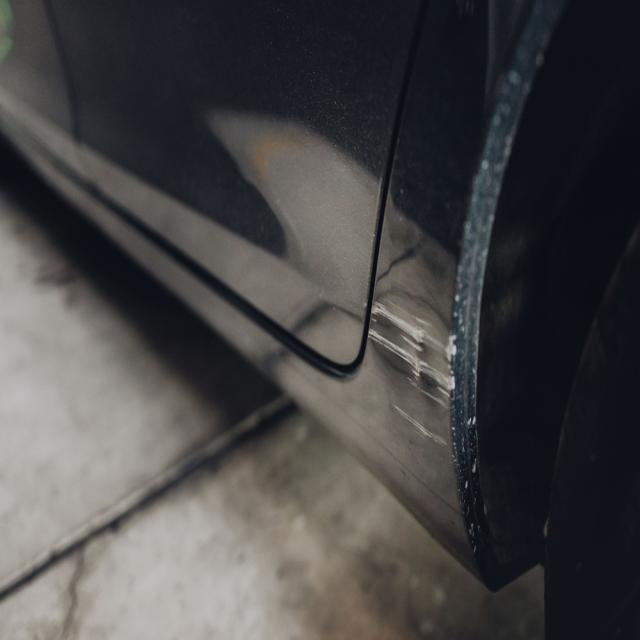scratch: (366, 294, 459, 452)
